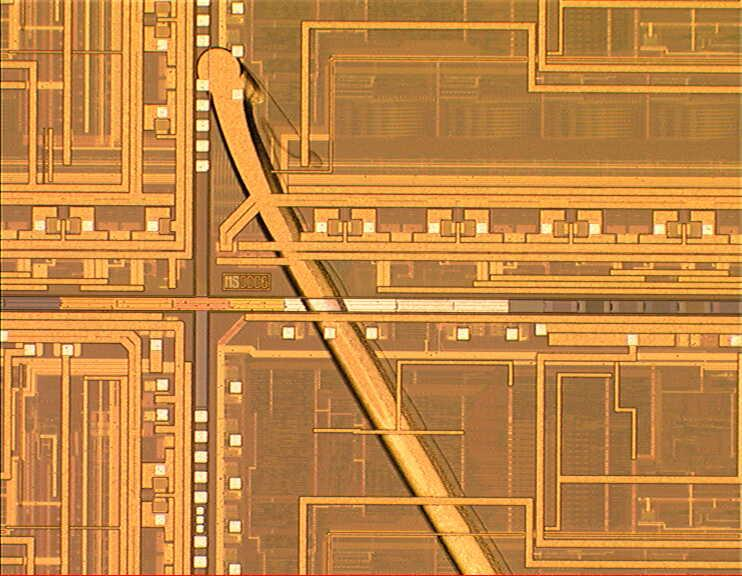BLOCK ETCH: (195, 44, 517, 576)
